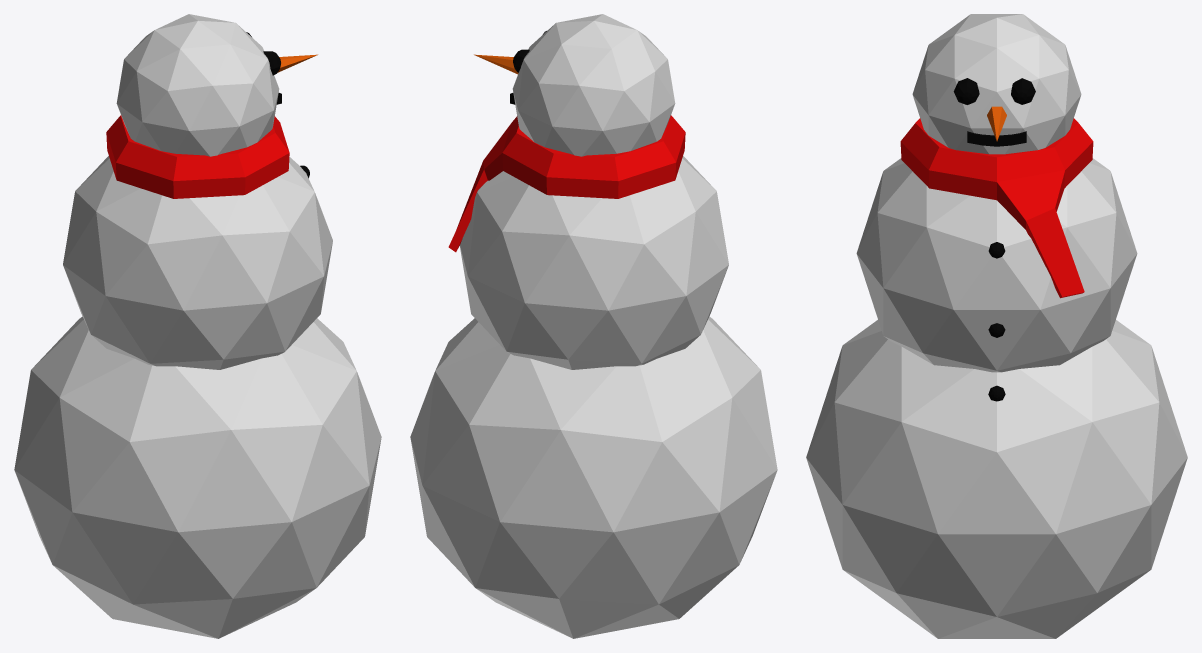
The model's file is Snowman V1.fbx.
The picture shows the model from 3 angles, left to right: view 1: azimuth 30°, elevation 25°; view 2: azimuth 150°, elevation 25°; view 3: azimuth 270°, elevation 25°; orthographic projection.
Visible parts, largest first — view 1: SnowmanV1; view 2: SnowmanV1; view 3: SnowmanV1.
Part boxes in pixels (x1=…): SnowmanV1: x1=14, y1=14, x2=381, y2=638; SnowmanV1: x1=410, y1=14, x2=777, y2=638; SnowmanV1: x1=806, y1=14, x2=1187, y2=638.
Bounding box in the file's own units: 114 × 213 × 120.
